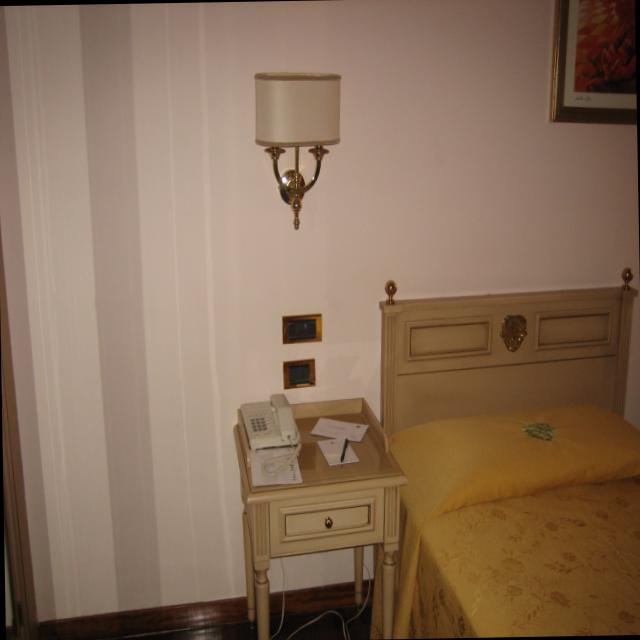bed -occluded-: (368, 268, 640, 637)
drawer handle: (280, 498, 373, 542)
envelope: (309, 420, 366, 439)
headboard: (379, 270, 637, 437)
lamp crop: (255, 76, 338, 231)
pen holder: (339, 441, 350, 460)
picture crop: (550, 0, 636, 124)
sideboard: (232, 397, 403, 638)
telephone booth: (241, 394, 300, 446)
